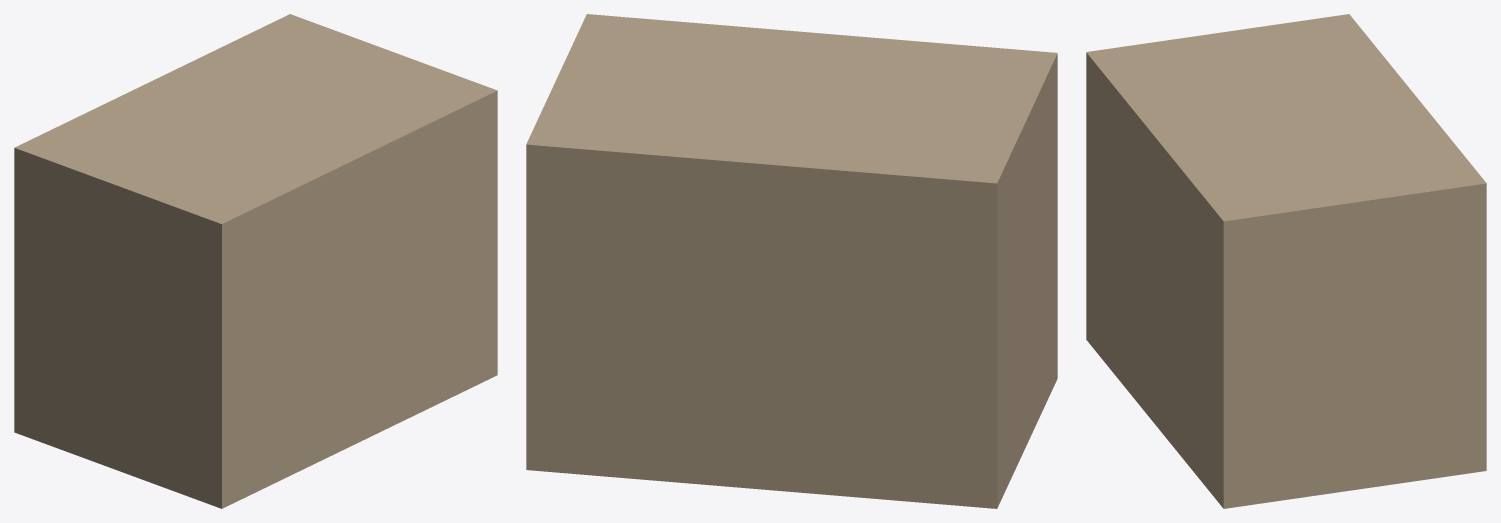
Rendered from bld_106796591.dae.
3 renders of one model, left to right at view 1: azimuth 30°, elevation 25°; view 2: azimuth 150°, elevation 25°; view 3: azimuth 270°, elevation 25°, orthographic. The views are drawn at different scales.
Parts seen in each view (by area): view 1: bld_106796591; view 2: bld_106796591; view 3: bld_106796591.
Part boxes in pixels (<box>): bld_106796591: <box>14,14,497,508</box>; bld_106796591: <box>526,14,1057,508</box>; bld_106796591: <box>1086,14,1486,508</box>.
Size of the model in its own units: 12.38 by 10.1 by 8.
